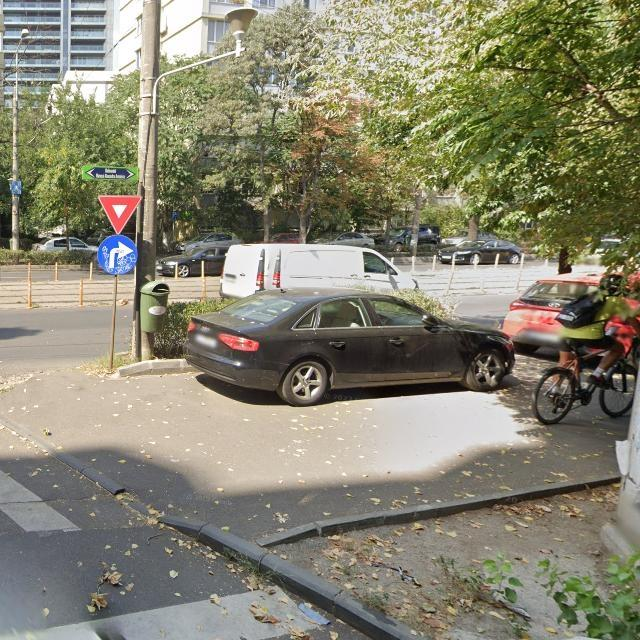prio_give_way: (97, 195, 143, 234)
